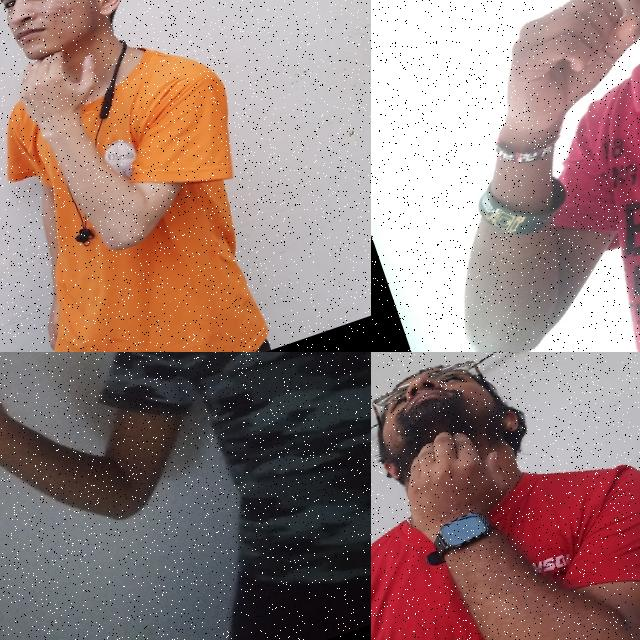Chin Flick: (371, 352, 554, 557), (0, 0, 192, 155)
Fist Mouth: (398, 0, 640, 167)
